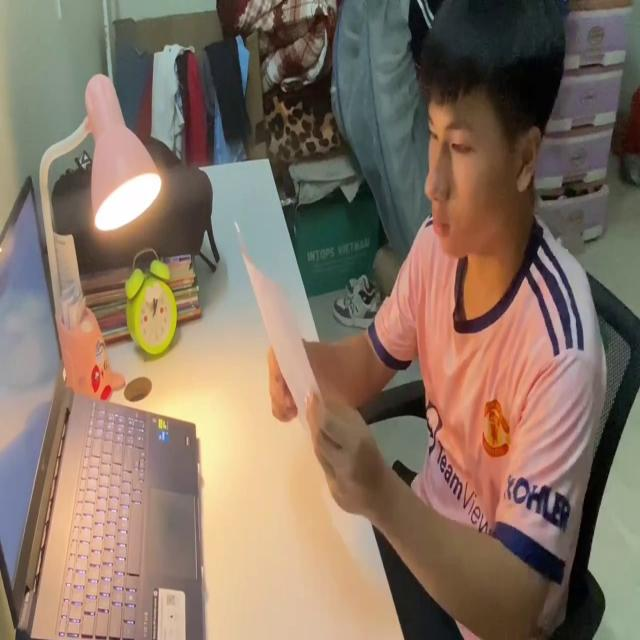book: (236, 216, 329, 445)
laptop: (0, 172, 205, 640)
student: (268, 0, 606, 640)
